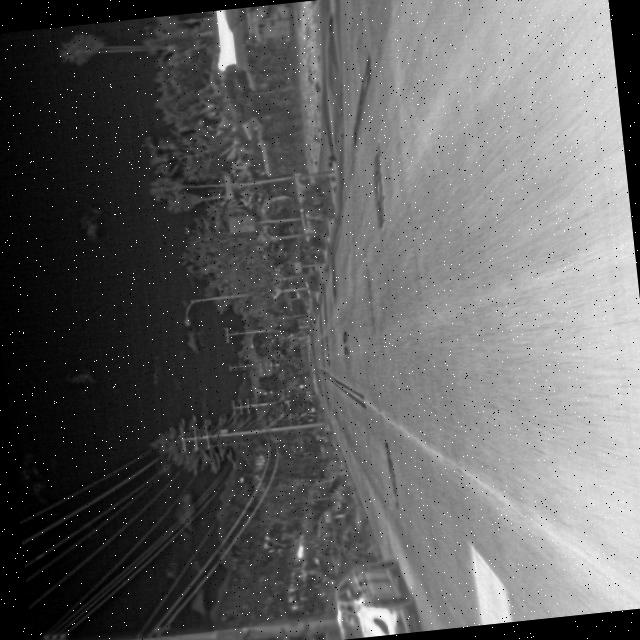Vehicle: (325, 553, 420, 640)
